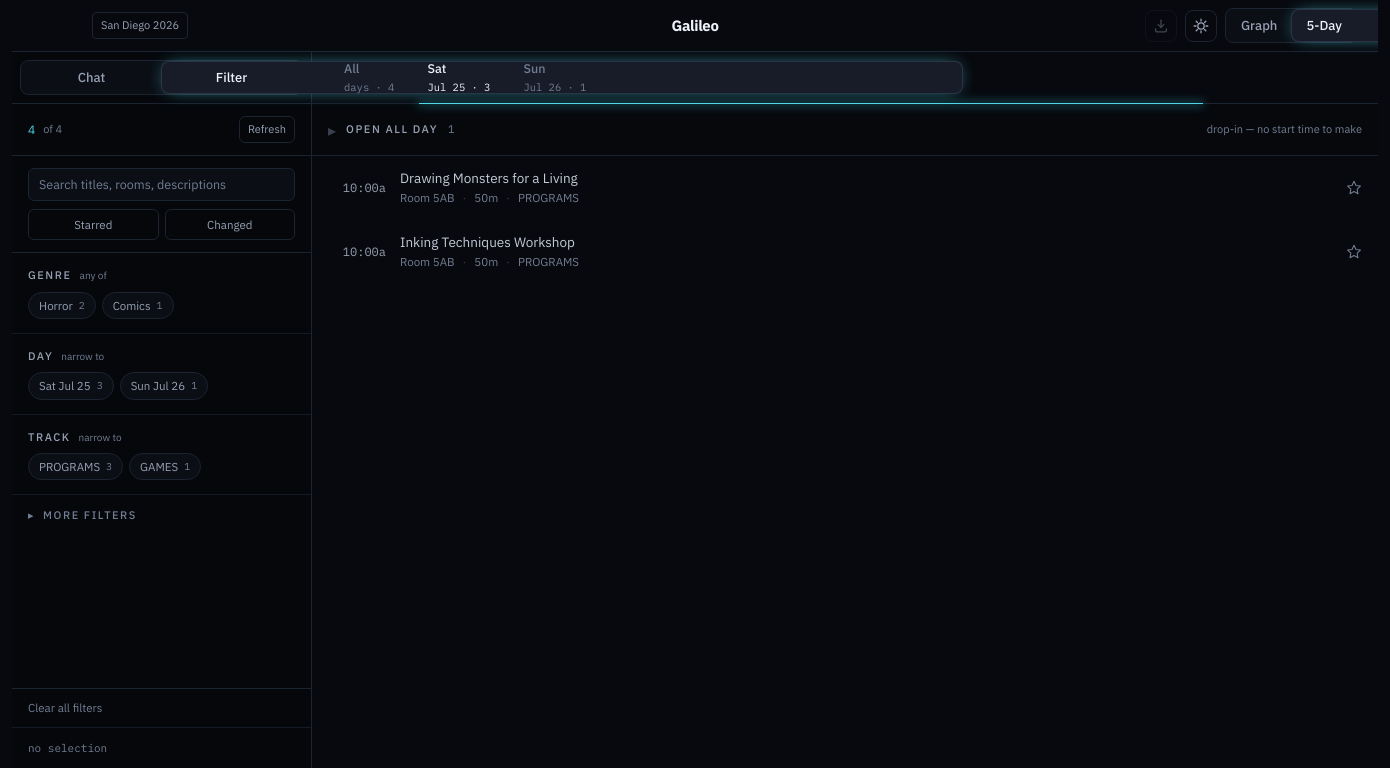
Test case: ghost stars › renders a starred event that left the feed instead of dropping it
Expected: the text "Drawing Monsters for a Living" is shown, x1=400 y1=170 x2=578 y2=187
What coordinates should you click on to do the following:
click the button named "Star Drawing Monsters"
I would click on:
 (1354, 188)
Its box is x1=1342 y1=176 x2=1366 y2=200.
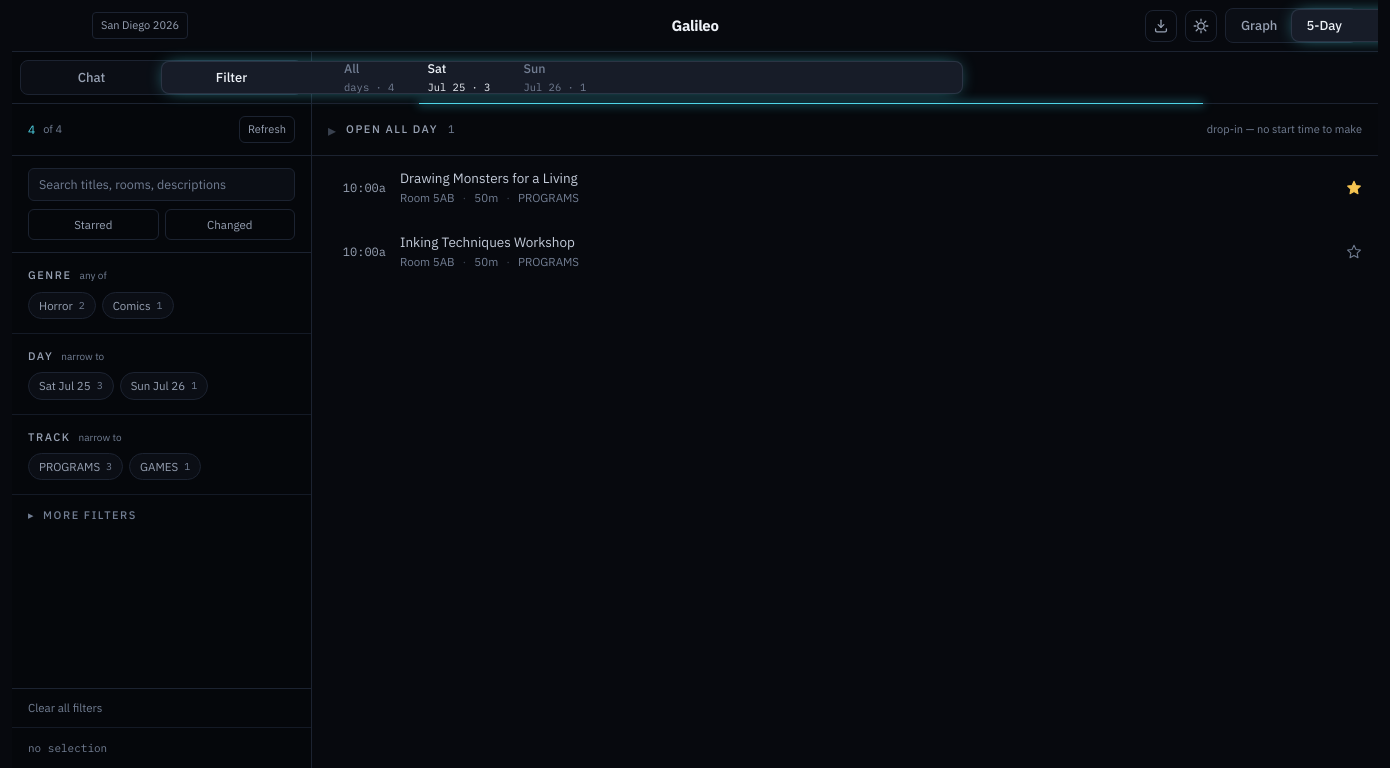
What coordinates should you click on to do the following:
click the button "Refresh"
I would click on:
 (267, 130)
Its box is x1=239 y1=116 x2=295 y2=143.
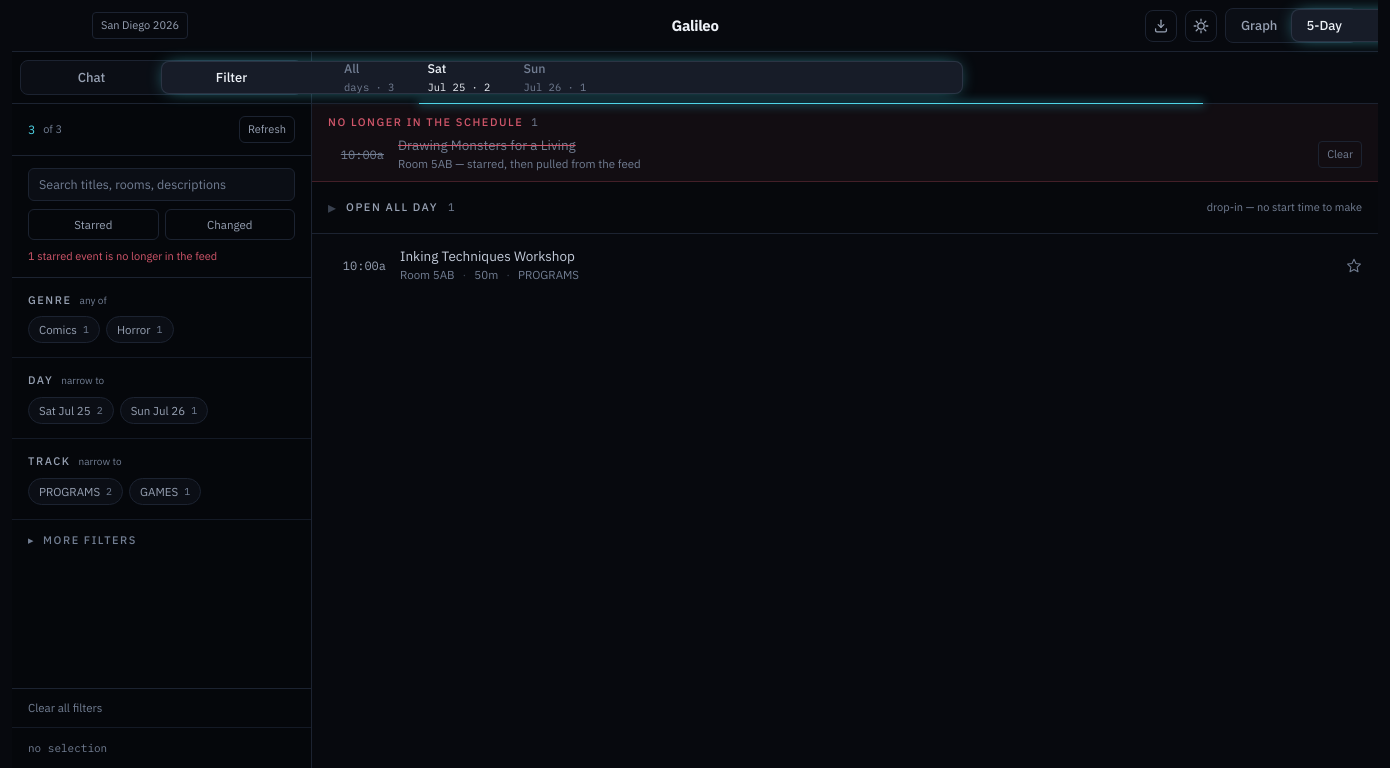
Expected: the text "Drawing Monsters for a Living" is shown, x1=398 y1=136 x2=576 y2=154
Expected: the text "No longer in the schedule" is shown, x1=328 y1=114 x2=523 y2=130
Expected: the text "Room 5AB — starred, then pulled from the feed" is shown, x1=398 y1=156 x2=641 y2=171
